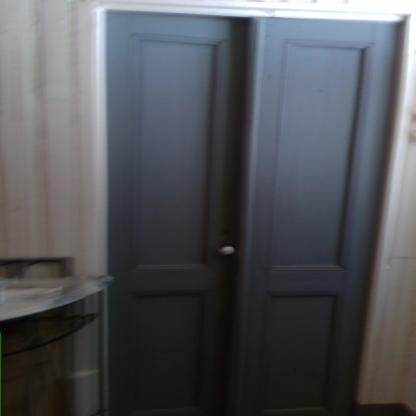closed: (89, 2, 412, 416)
